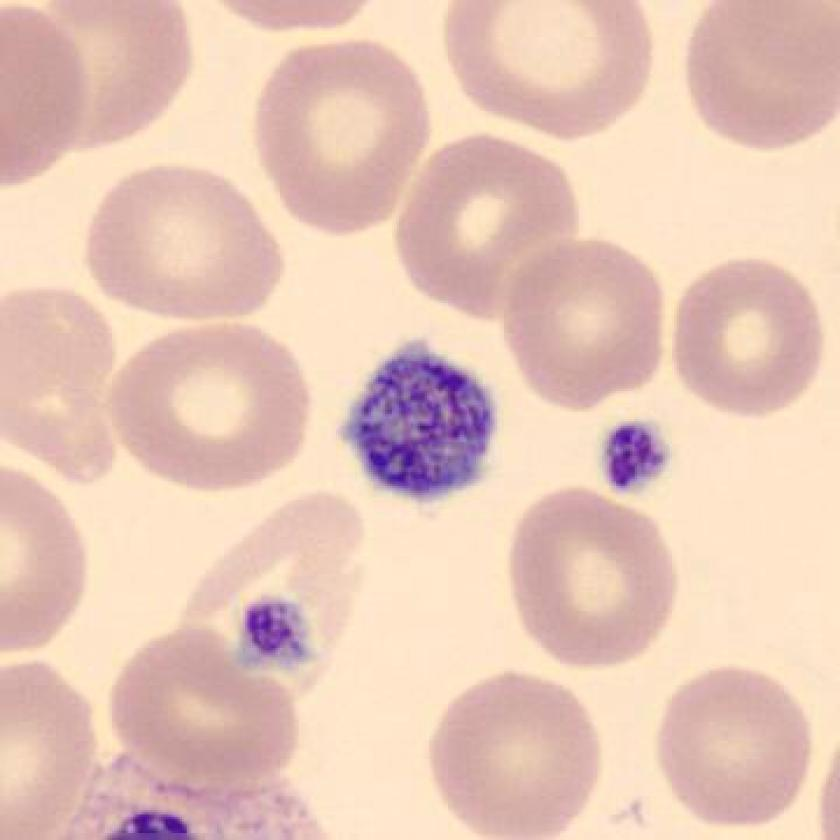platelets: (332, 330, 512, 515), (227, 582, 330, 691), (589, 413, 685, 505)
